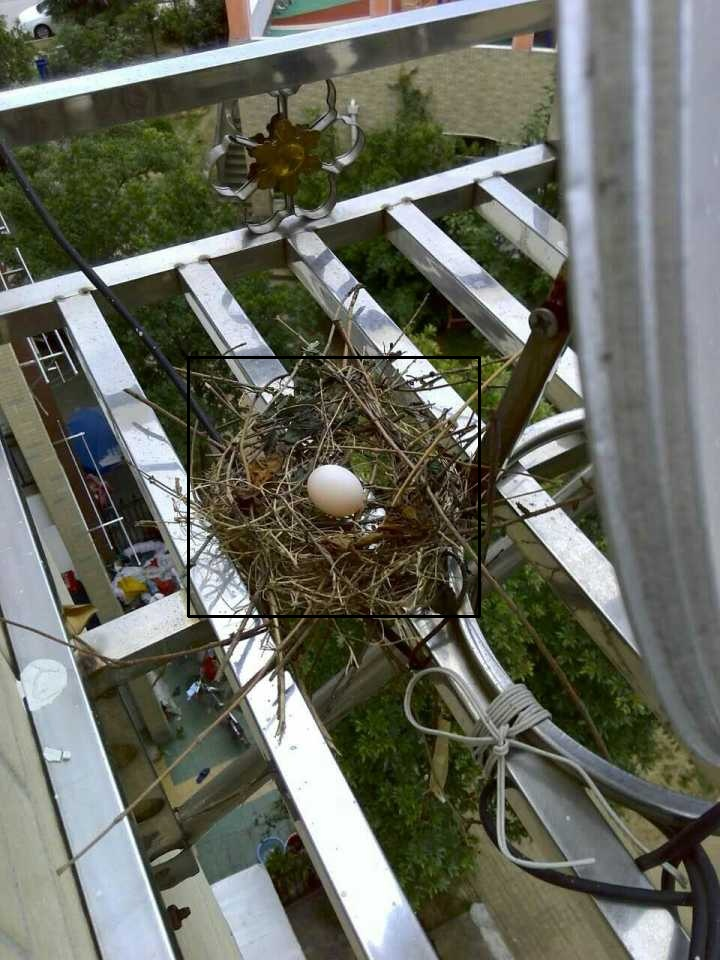bird-nest: (208, 382, 464, 604)
